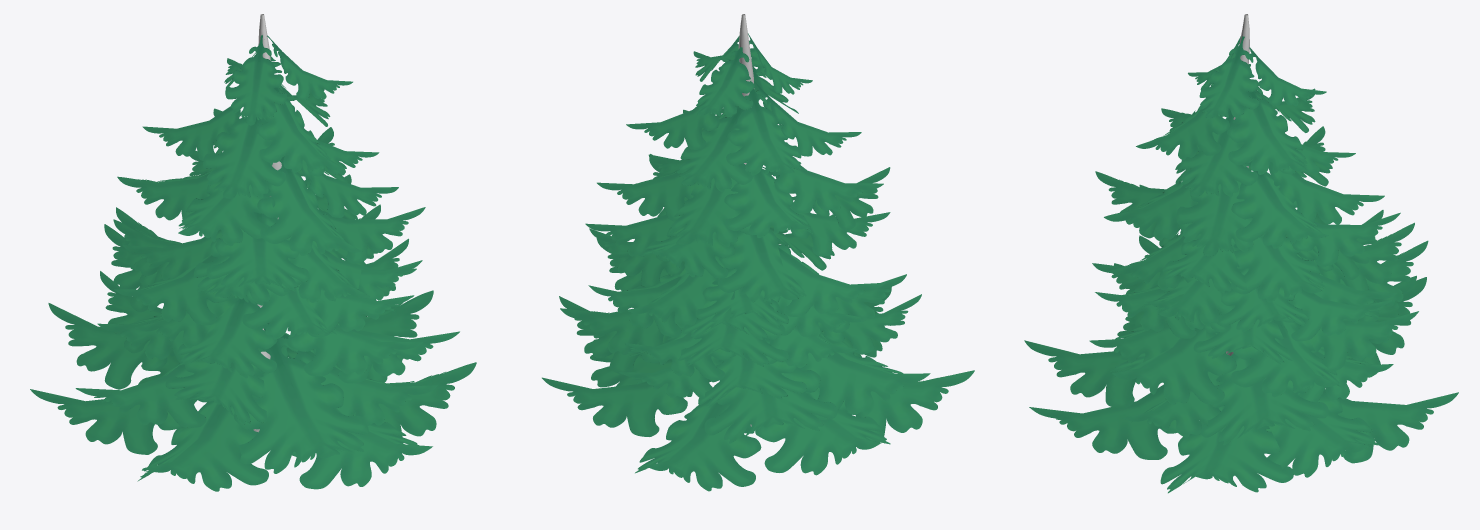
The model's file is Tree_02.fbx.
The picture shows the model from 3 angles, left to right: view 1: azimuth 30°, elevation 25°; view 2: azimuth 150°, elevation 25°; view 3: azimuth 270°, elevation 25°; orthographic projection. The views are drawn at different scales.
Parts seen in each view (by area): view 1: Plane.007; view 2: Plane.007, BezierCurve.025; view 3: Plane.007.
Part boxes in pixels (<box>): Plane.007: <box>30,35,476,491</box>; Plane.007: <box>542,33,974,491</box>; BezierCurve.025: <box>738,14,754,426</box>; Plane.007: <box>1024,36,1458,493</box>.
Size of the model in its own units: 780 by 766 by 740.
